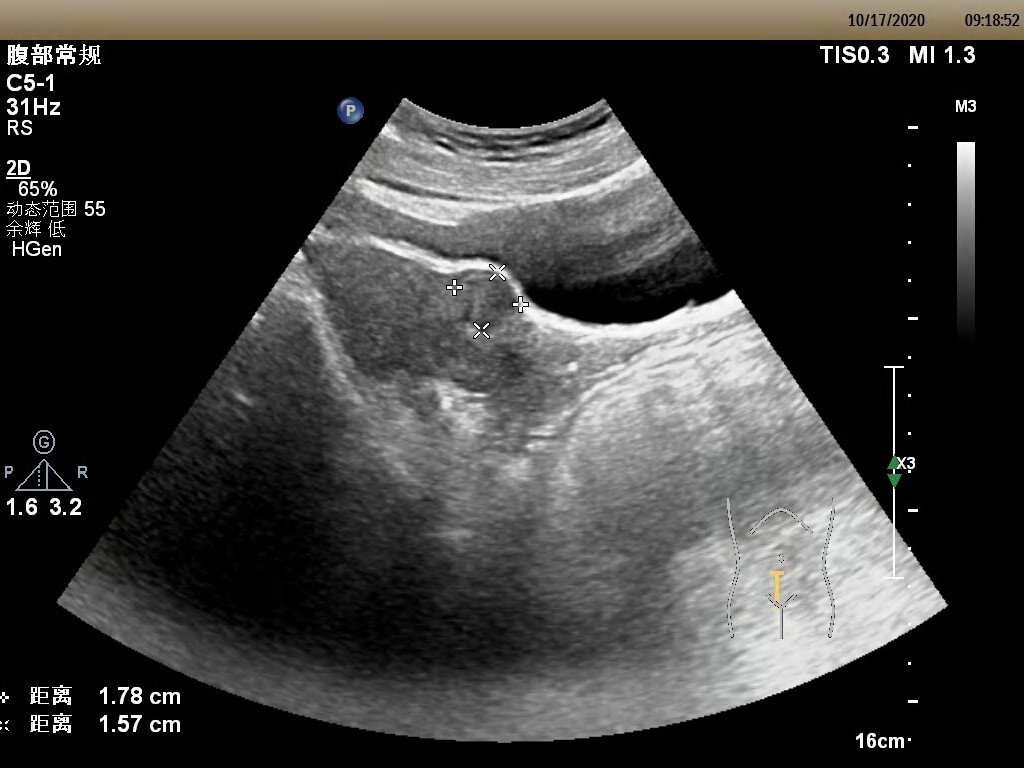肌瘤: (453, 270, 521, 332)
